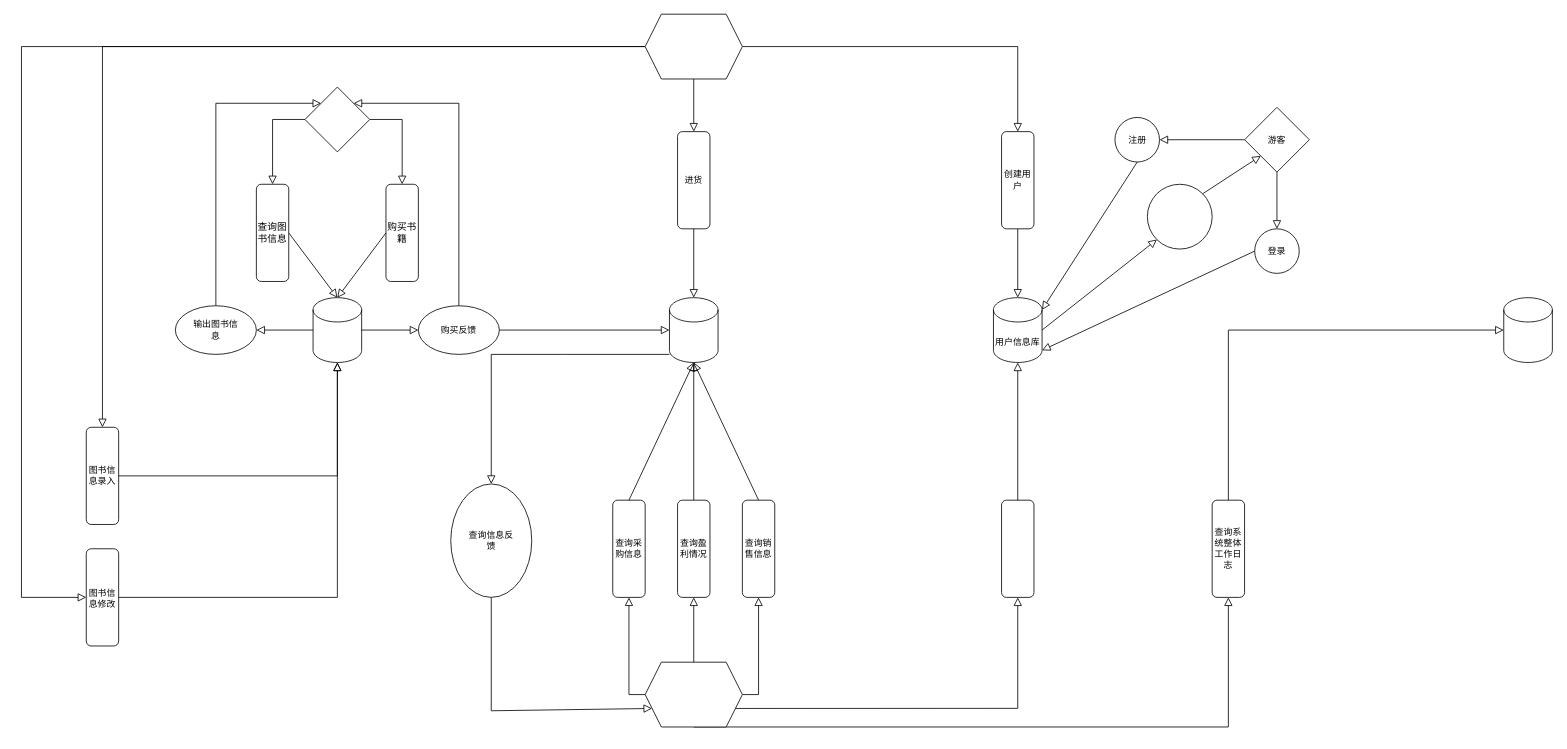
Image size: 1567x749. Some labels were removed from this diagram. Here are the shapes that lost their labels. From the top down, the centre of each, then its label:
point 693,46: 销售人员
point 337,119: 顾客
point 1179,216: 注册/登录成功反馈
point 337,329: 图书信息库
point 693,329: 销售信息库
point 1527,329: 系统工作日志
point 1017,548: 查询员工工作报告
point 693,694: 店主
